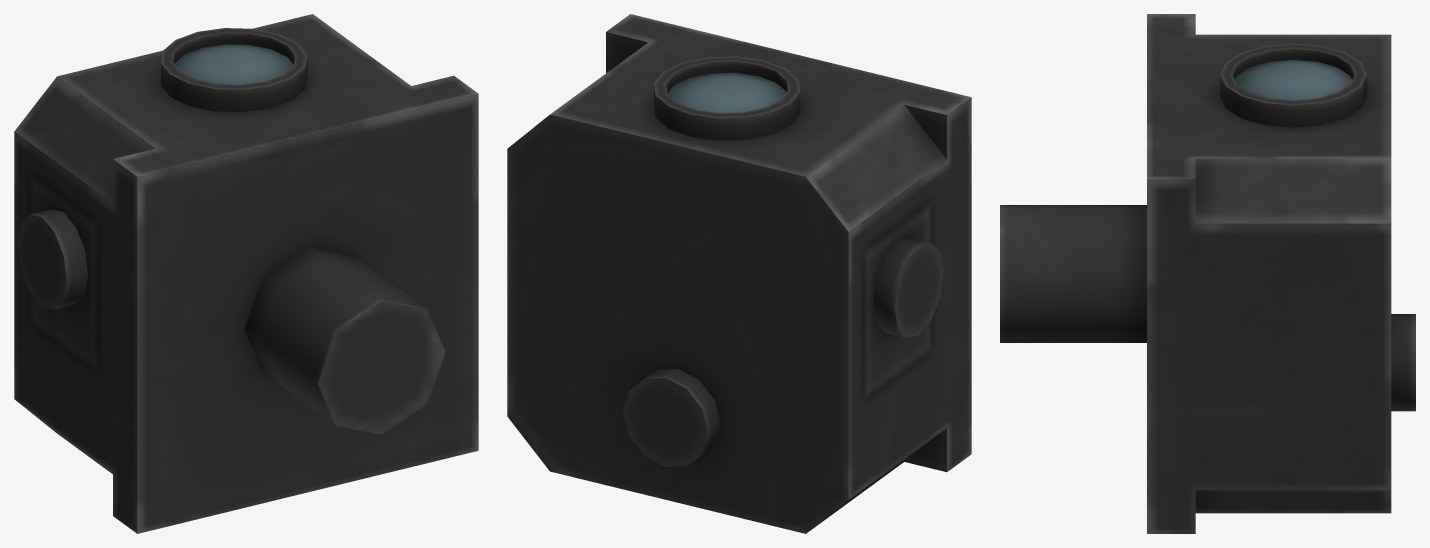
Rendered from 4mv_sensor_infrared_camera_s0_1.obj.
3 renders of one model, left to right at view 1: azimuth 30°, elevation 25°; view 2: azimuth 150°, elevation 25°; view 3: azimuth 270°, elevation 25°, orthographic.
Visible parts, largest first — view 1: mesh1, lense1; view 2: mesh1, lense1; view 3: mesh1, lense1.
Part boxes in pixels (x1,y1,x2,y2): mesh1: (14, 14, 478, 533); lense1: (174, 44, 293, 84); mesh1: (507, 14, 971, 533); lense1: (667, 72, 786, 112); mesh1: (1000, 14, 1415, 533); lense1: (1235, 59, 1351, 100).
Bounding box in the file's own units: 0.2125 × 0.2125 × 0.2125.
